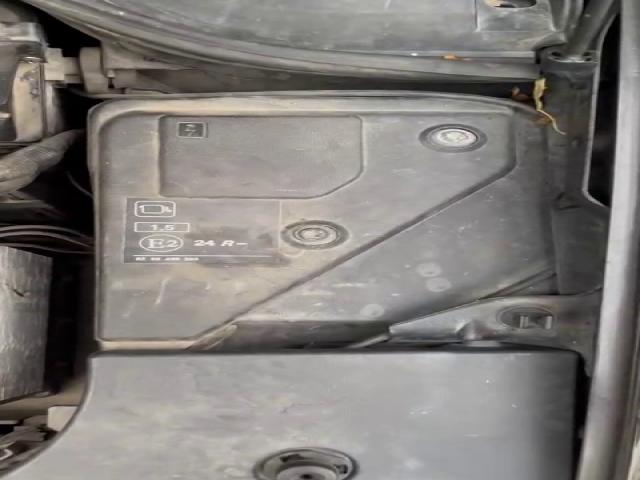fuse_box: (98, 109, 527, 342)
